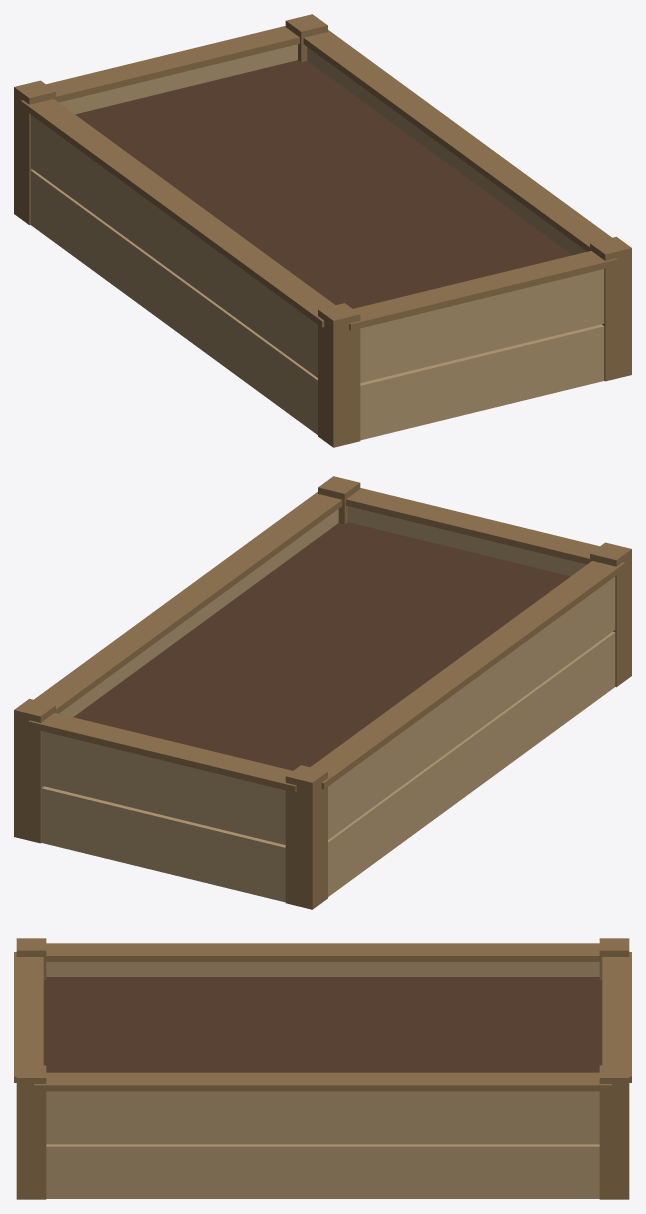
Rendered from RaisedBed_1x2.fbx.
3 views of the same model, one above another, from view 1: azimuth 30°, elevation 25°; view 2: azimuth 150°, elevation 25°; view 3: azimuth 270°, elevation 25° (orthographic). The views are drawn at different scales.
Parts seen in each view (by area): view 1: RaisedBed_1x2; view 2: RaisedBed_1x2; view 3: RaisedBed_1x2.
Boxes of the visible parts, bbox=[...] form: RaisedBed_1x2: bbox=[14, 14, 631, 447]; RaisedBed_1x2: bbox=[14, 476, 631, 909]; RaisedBed_1x2: bbox=[14, 938, 631, 1199].
Size of the model in its own units: 1.25 by 0.5 by 2.3.
